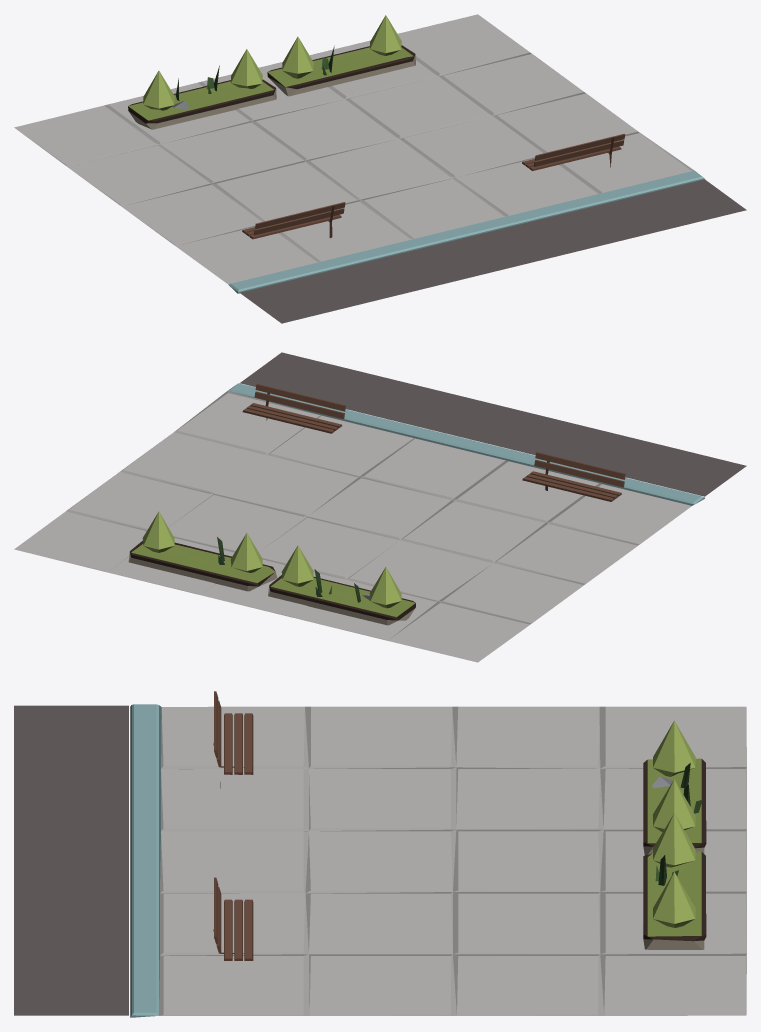
The model's file is QmXrLH8qDnFfzTQnjBFqy8KvjuXGW1rPYBV9r5gZFRoMHz_lod2.fbx.
3 renders of one model, top to bottom at view 1: azimuth 30°, elevation 25°; view 2: azimuth 150°, elevation 25°; view 3: azimuth 270°, elevation 25°, orthographic. The views are drawn at different scales.
Visible parts, largest first — view 1: Entity_512; view 2: Entity_512; view 3: Entity_512.
Boxes of the visible parts, <box> form: Entity_512: <box>14,14,746,323</box>; Entity_512: <box>14,352,746,662</box>; Entity_512: <box>14,691,746,1017</box>.
Bounding box in the file's own units: 16000 × 1591 × 15918.
Materials: 1 (1 with a texture image).
